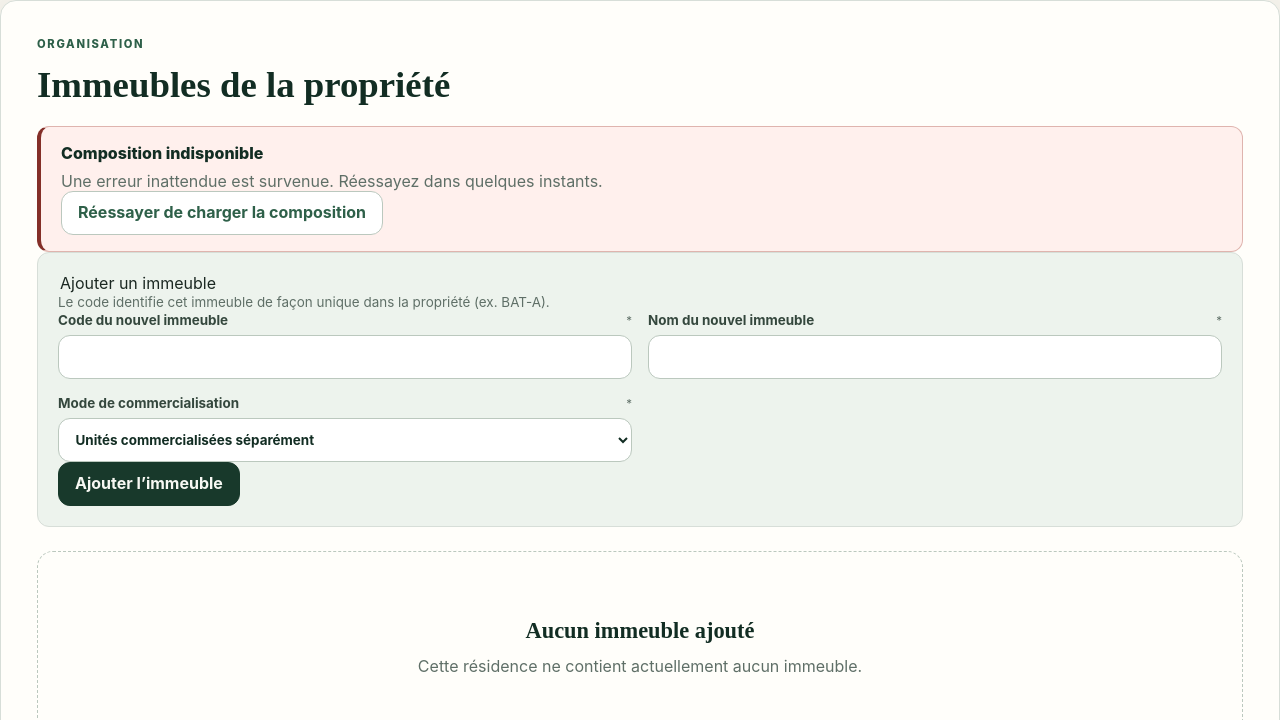
Test: Composition du bien Web › propose une nouvelle tentative après une erreur initiale sans masquer la fiche
Check: the message shows "erreur inattendue", box [61,171,603,191]
Click the button "Réessayer de charger la composition" at (222, 213), box [61,191,383,235]
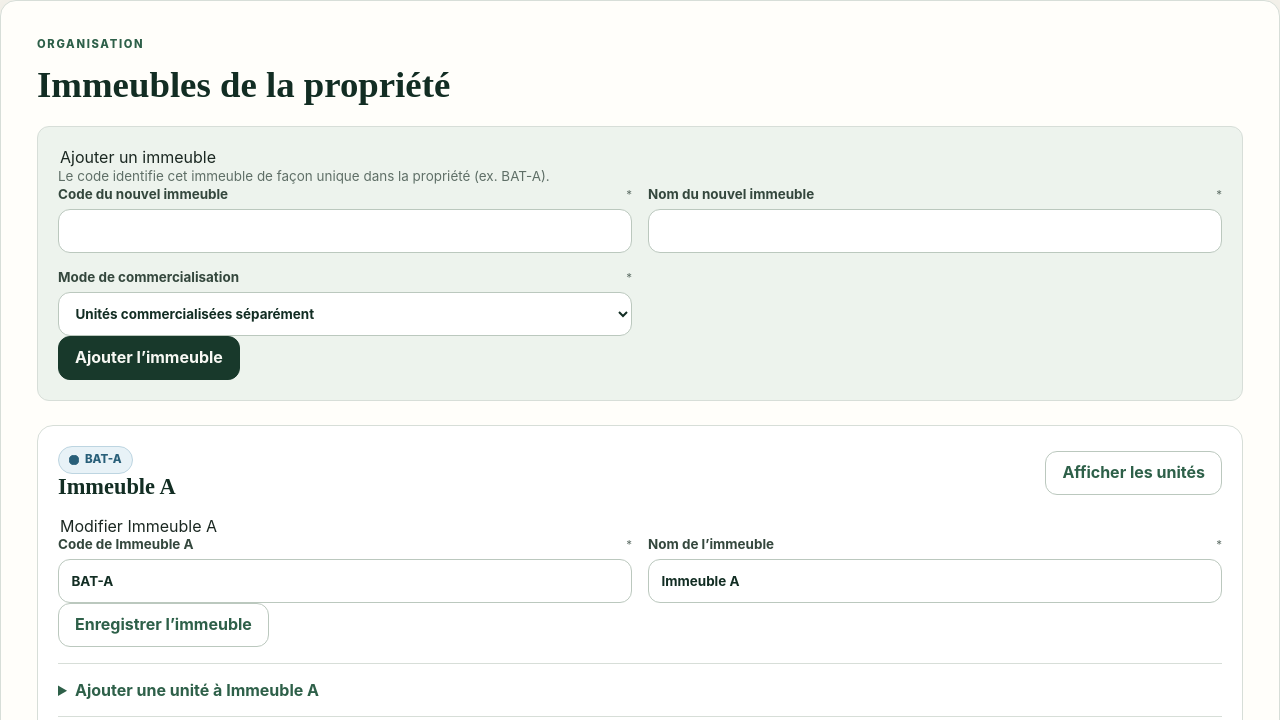
Check: the element "Modifier Immeuble A" is shown, box [58,516,1222,647]
